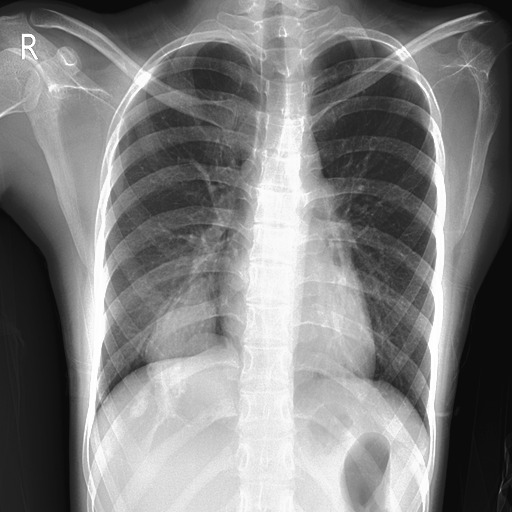Aortic enlargement: (145, 274, 217, 407)
Pleural thickening: (135, 289, 243, 421)
Pulmonary fibrosis: (145, 274, 217, 407), (179, 334, 240, 404)
